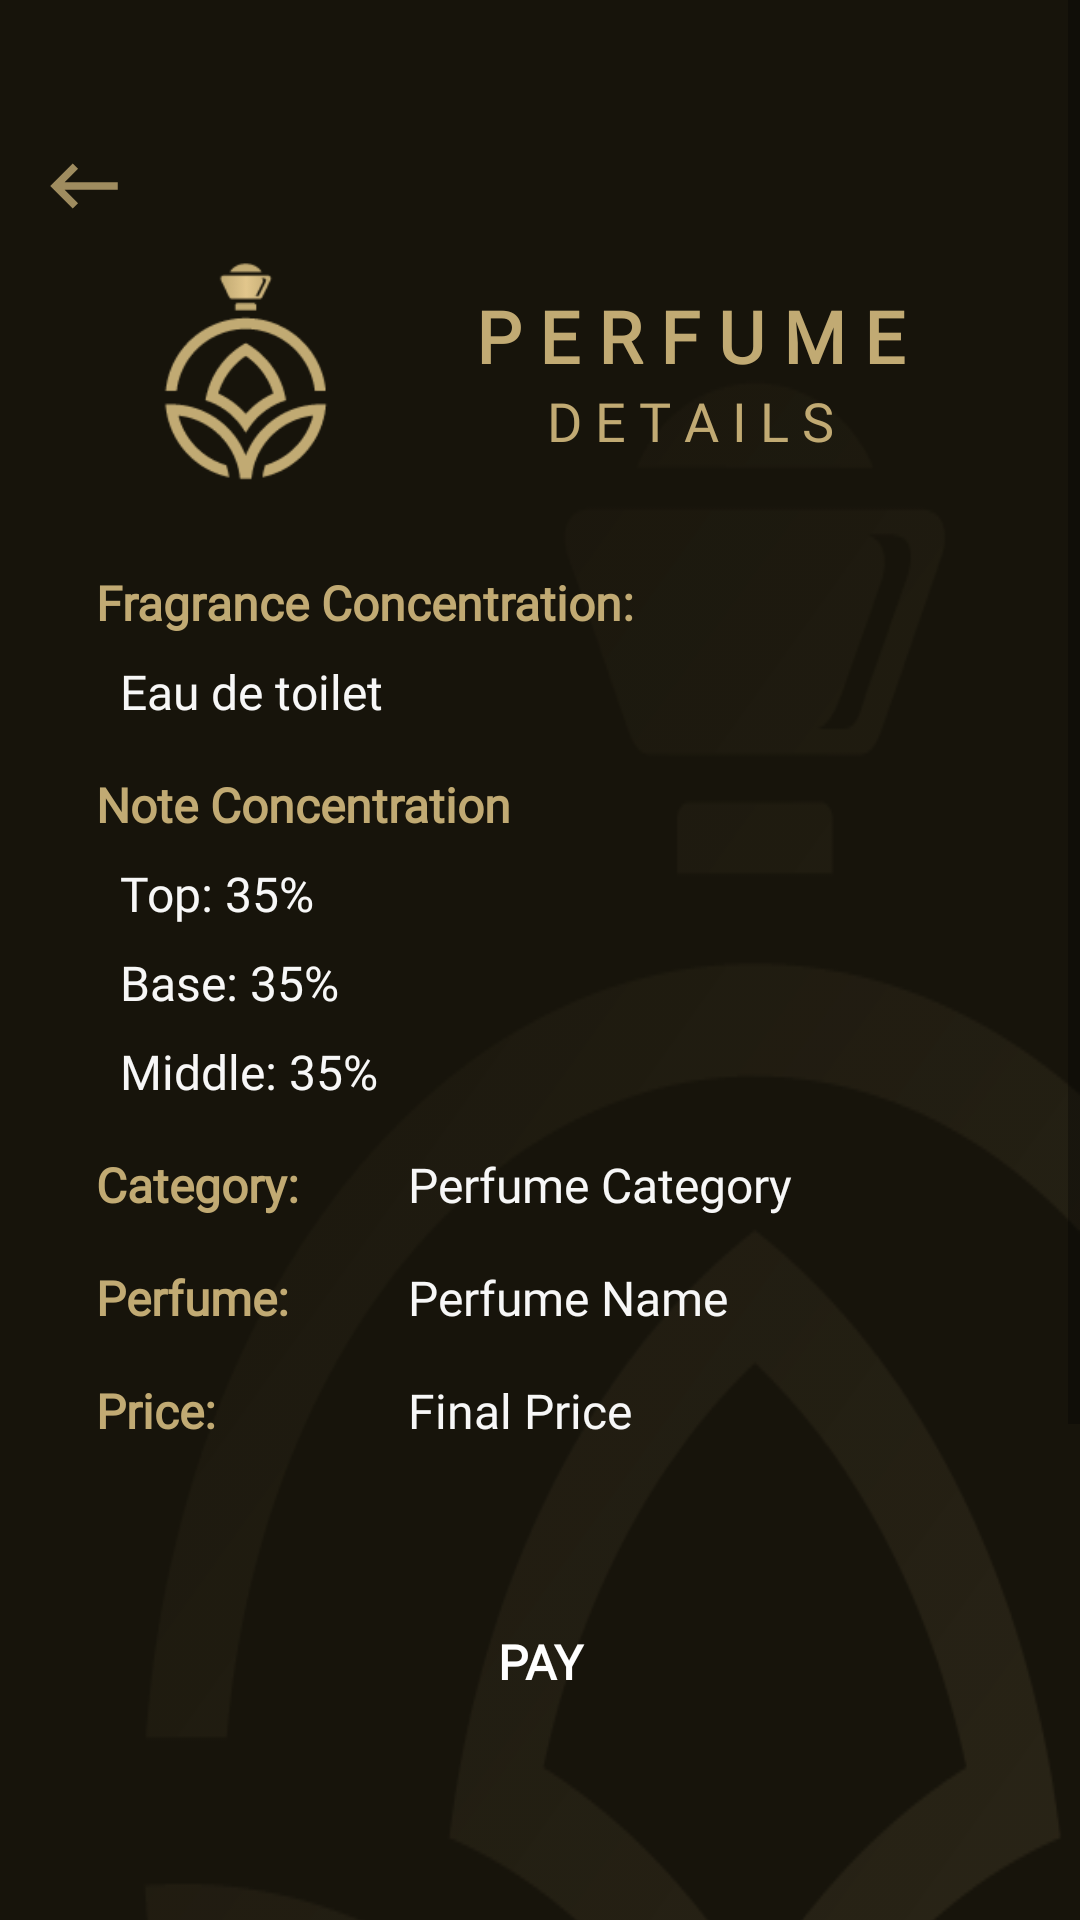

Icons on this 1080 × 1920 Android screen, each with the point to tap as [x,y]:
back: [84,186]
